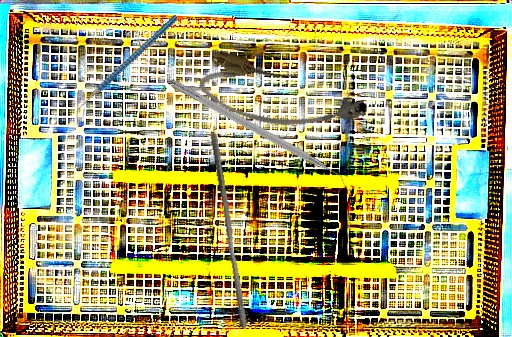Cannula: (194, 46, 372, 151)
Chopper: (164, 79, 353, 195), (53, 13, 200, 123)
Pusher: (201, 129, 256, 330)
